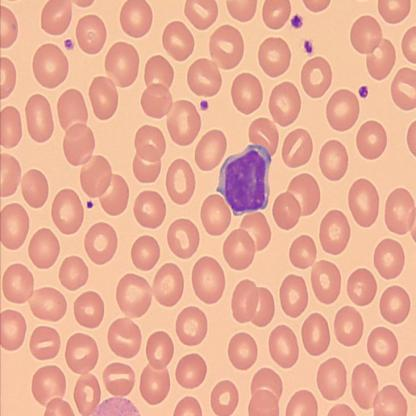Atypical lymphocyte: (217, 142, 271, 217)
